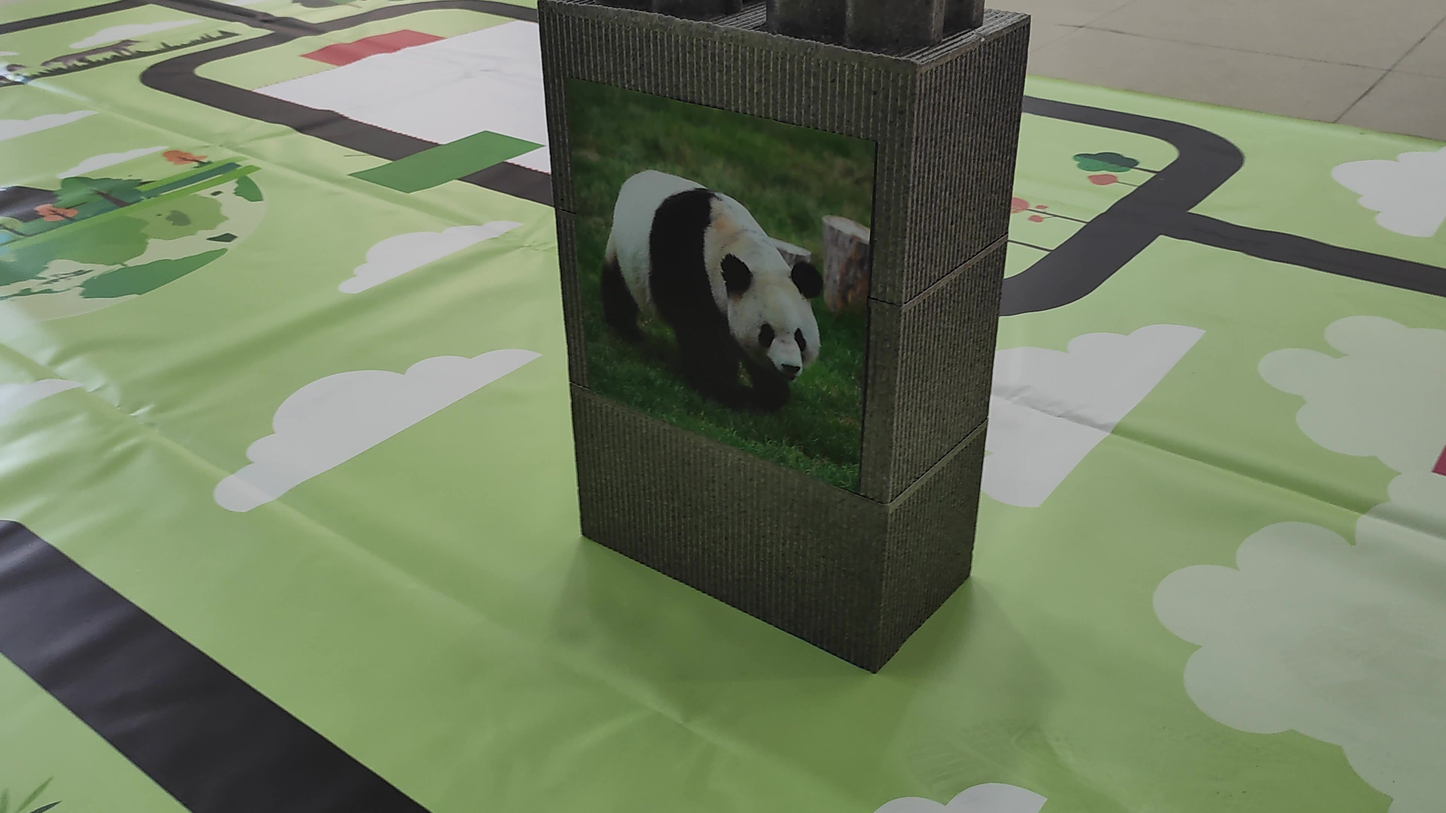panda: (558, 98, 856, 471)
